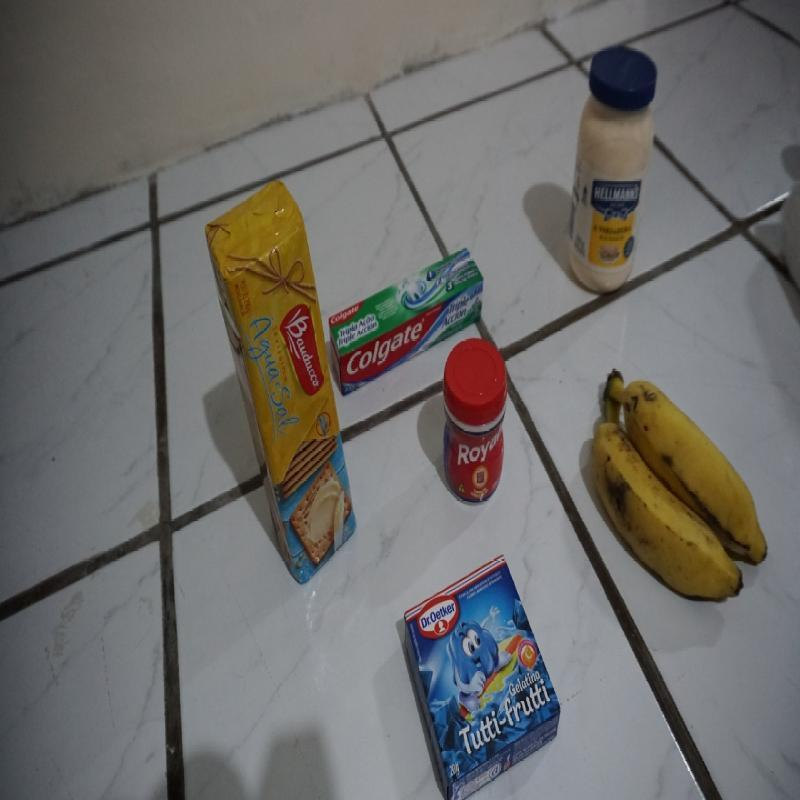Banana: (591, 368, 770, 607)
Cracker: (205, 178, 357, 586)
Gelatine: (402, 554, 562, 800)
Mayonnaise: (566, 39, 659, 292)
Toothpaste: (328, 245, 484, 397)
Yeast: (442, 337, 506, 510)
